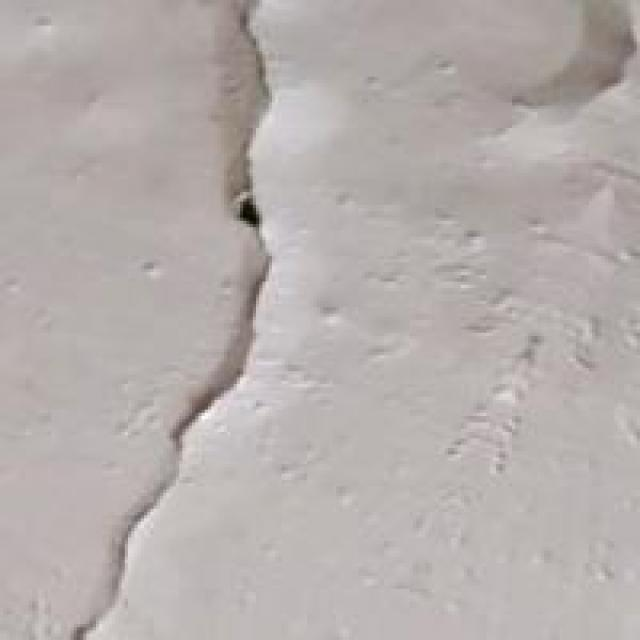crack: (54, 0, 320, 637)
